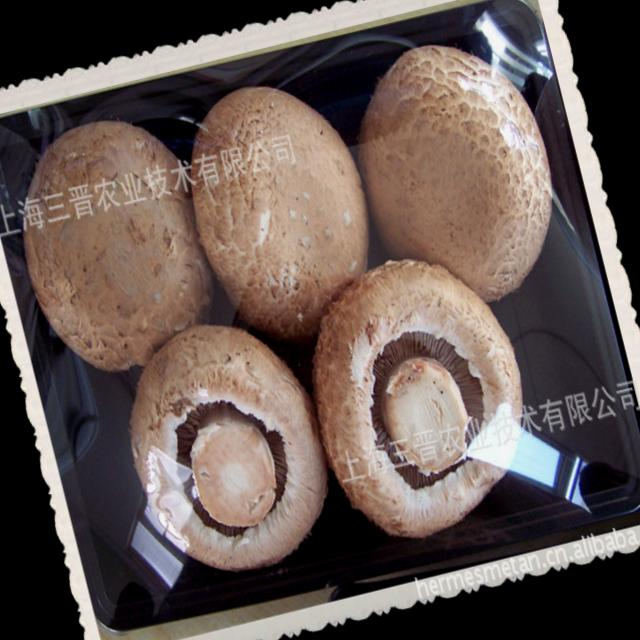Agaricus bisporus: (284, 228, 544, 538), (340, 24, 579, 320), (107, 311, 344, 584), (160, 70, 394, 345), (3, 113, 230, 375)
